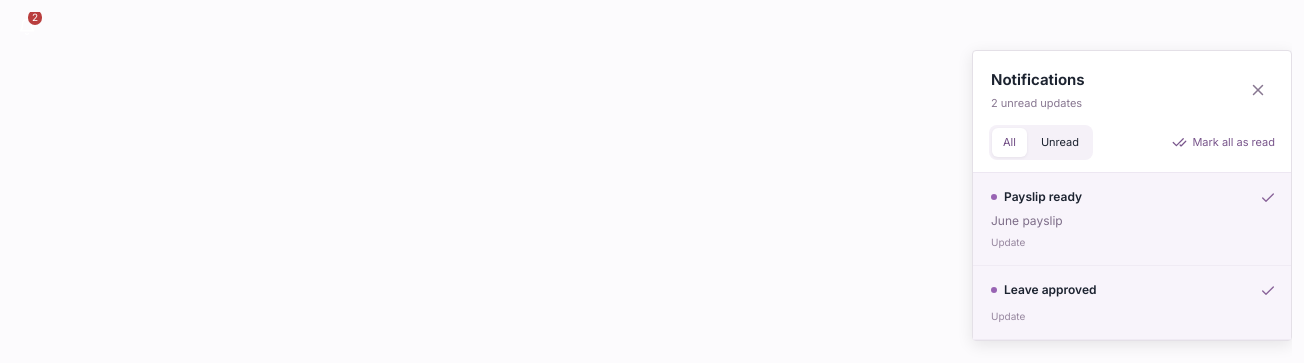
Test: Notification read workflow › updates the badge after individual and all-read actions
Expected: the button named "Notifications, 2 unread" is shown, [12, 12, 42, 42]
Click the button named "Mark Payslip ready as read" at (1268, 198), box [1253, 182, 1283, 212]
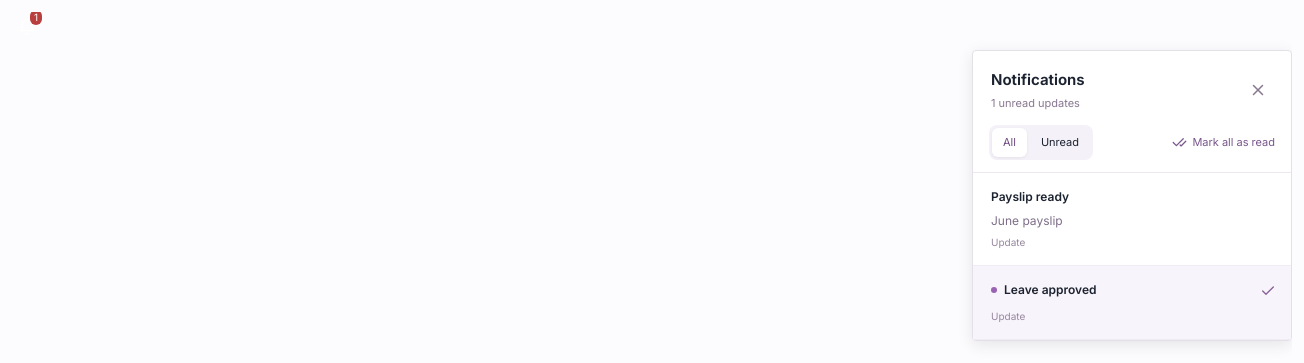
Now the button named "Notifications, 1 unread" is shown, box [12, 12, 42, 42]
Click the button "Mark all as read" at (1224, 142), box [1172, 134, 1275, 150]
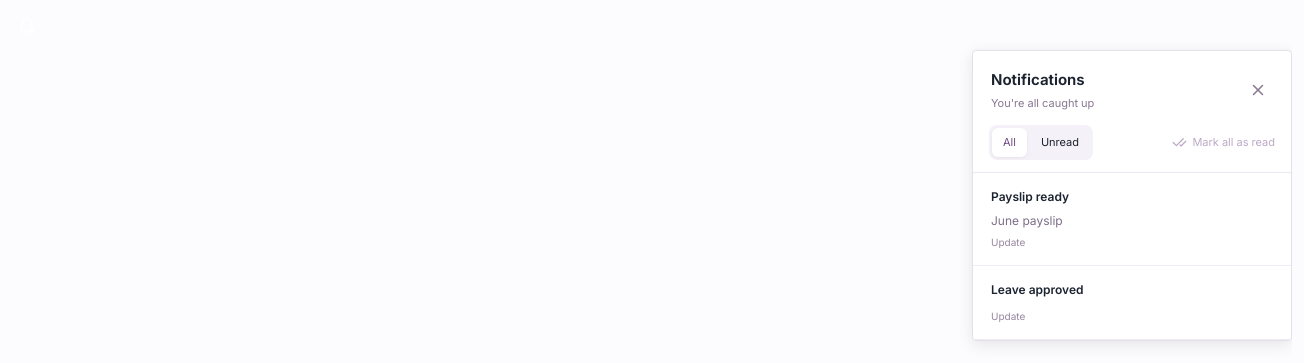
Now the button "Mark all as read" is disabled, box [1172, 134, 1275, 150]
Click the button "Unread" at (1060, 142), box [1030, 128, 1090, 156]
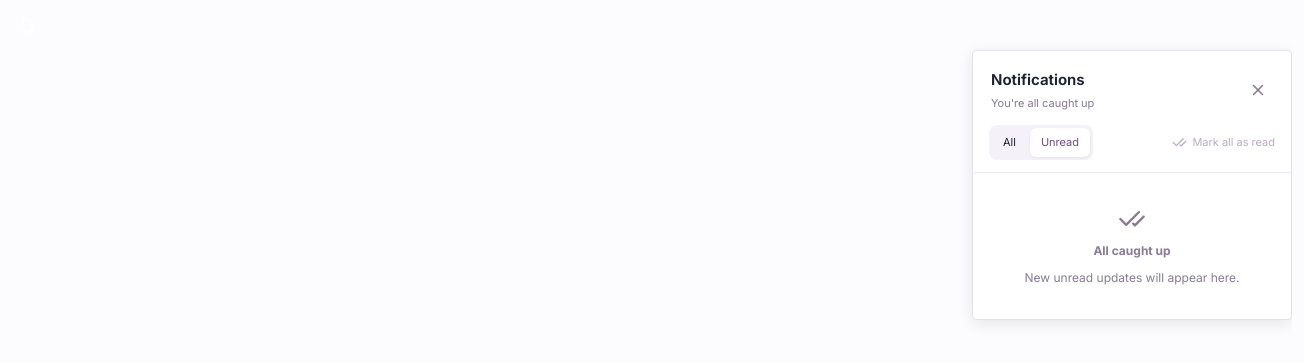
Now the text "All caught up" is shown, box [1093, 242, 1171, 260]
